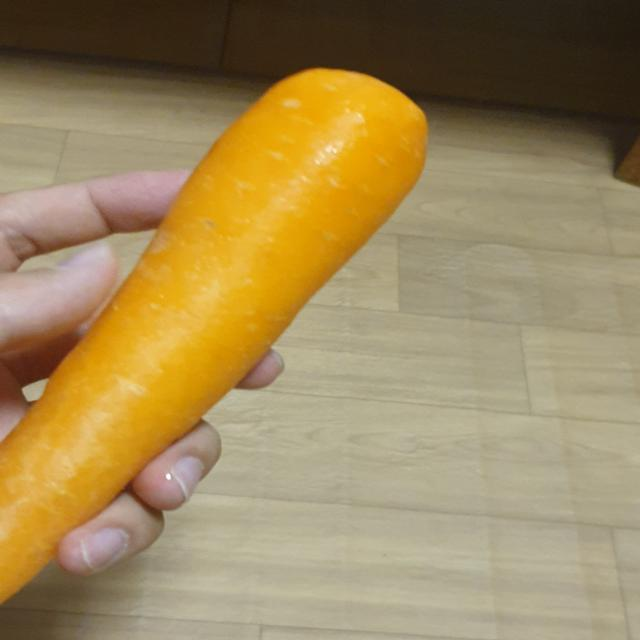Carrot: (1, 59, 447, 623)
